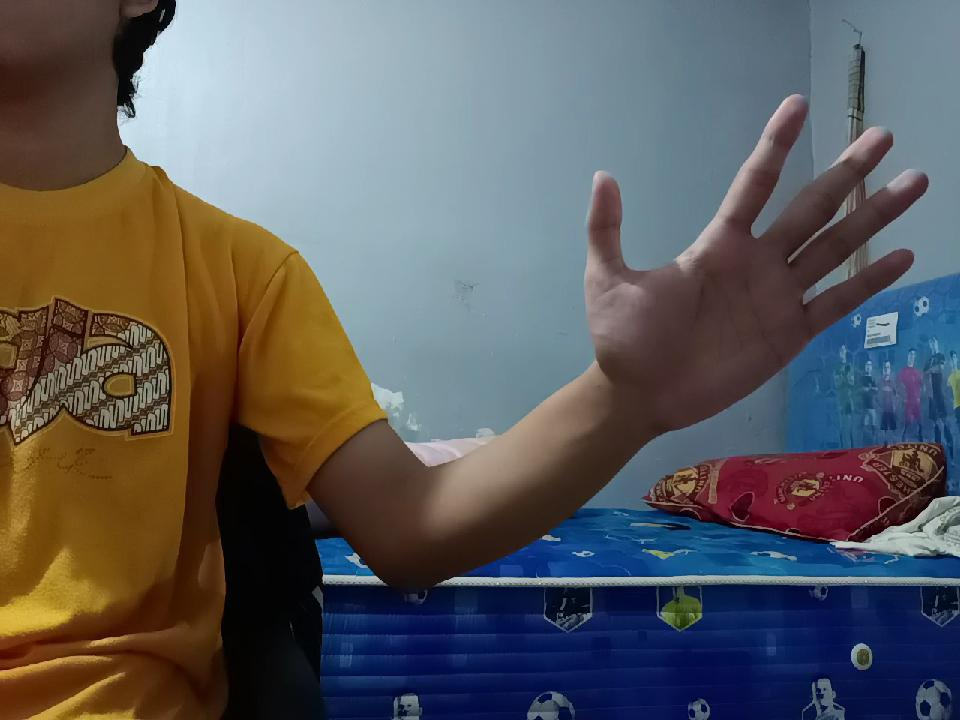paper: (572, 101, 916, 426)
